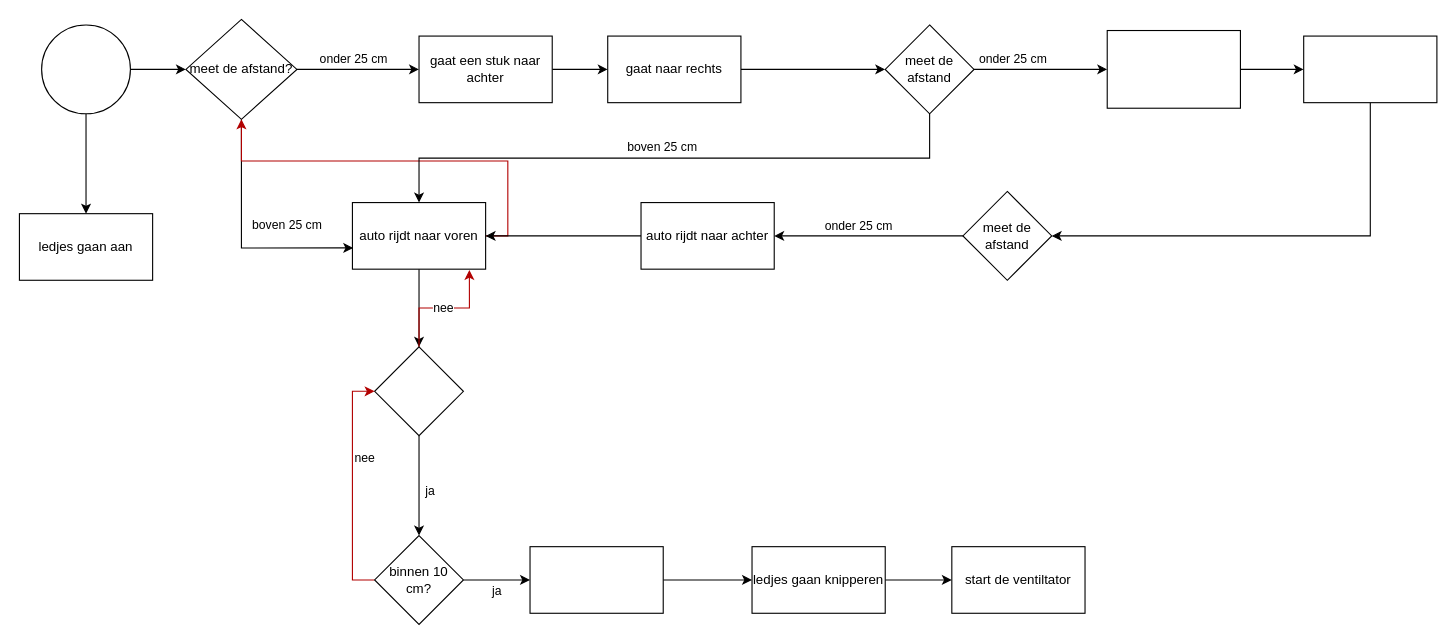
The diagram is 1456 pixels wide and 644 high, and some of its shapes have lost their labels. The shapes that lost their labels are listed below. From the top down, each one's box as (x1, y1, x2, y2) in pixels, then its label:
(41, 24, 130, 114): start
(1106, 29, 1240, 108): gaat naar achter
(1303, 35, 1437, 103): gaat naar links
(374, 346, 463, 436): auto detecteerd vlam?
(529, 546, 663, 613): auto piept
